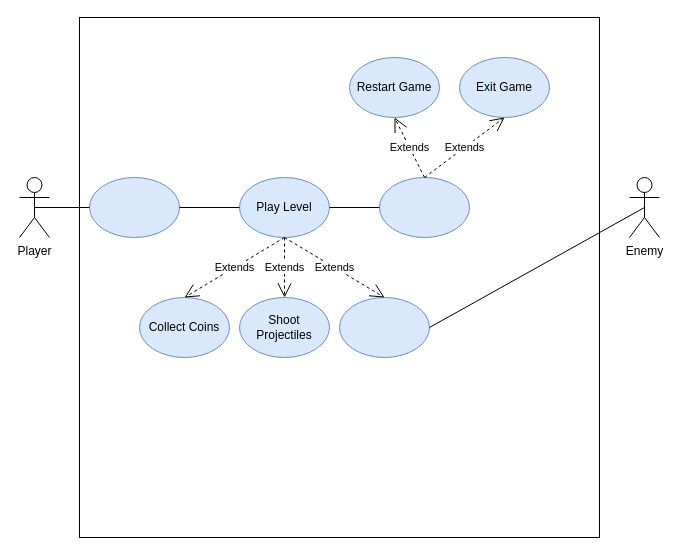
This 680x555 diagram has some shape labels left out. The centre of each missing label's shape, as x and y in pixels:
"Avoid Enemies/Kill Enemies" belongs at point (384, 327).
"Lose/Win" belongs at point (424, 207).
"Start Game" belongs at point (134, 207).
